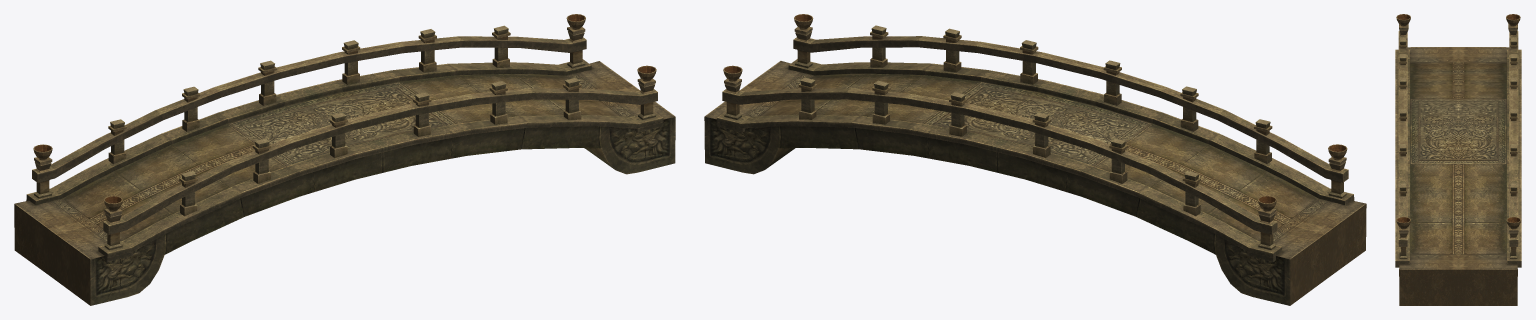
File: thunder_ruins_bridge.glb
3 renders of one model, left to right at view 1: azimuth 30°, elevation 25°; view 2: azimuth 150°, elevation 25°; view 3: azimuth 270°, elevation 25°, orthographic. The views are drawn at different scales.
Parts seen in each view (by area): view 1: 03, Object01; view 2: 03, Object01; view 3: Object01, 03.
Part boxes in pixels (x1,y1,x2,y2): 03: (26, 36, 675, 305); Object01: (14, 14, 675, 305); 03: (704, 36, 1354, 305); Object01: (705, 14, 1366, 305); Object01: (1396, 14, 1520, 305); 03: (1395, 31, 1521, 267).
Bounding box in the file's own units: 40.14 × 8.37 × 9.6.
Materials: 2 (2 with a texture image).
